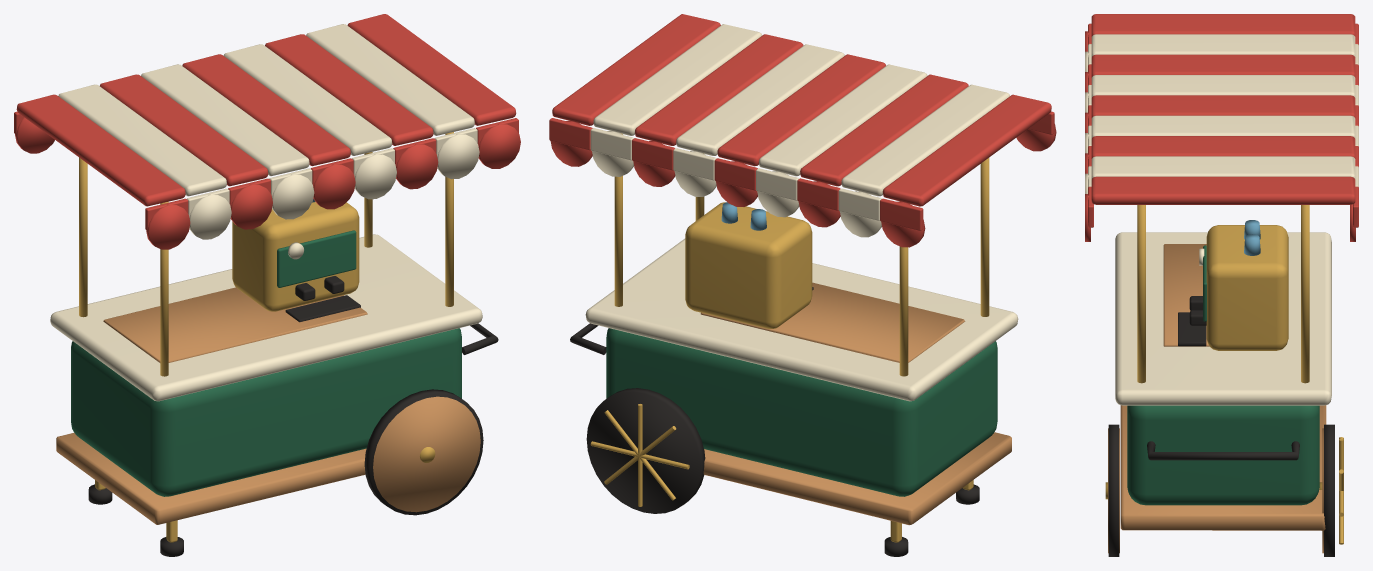
File: street_coffeecart.glb
3 views of the same model, side by side, from view 1: azimuth 30°, elevation 25°; view 2: azimuth 150°, elevation 25°; view 3: azimuth 270°, elevation 25° (orthographic).
Parts seen in each view (by area): view 1: Body, Counter, Wheel-0.43, Well, Base, Machine, Stripe0, Stripe1, Stripe4, Stripe7, Stripe2, Stripe3 (+19 smaller); view 2: Body, Counter, Machine, Wheel0.46Tyre, Base, Well, Stripe0, Stripe6, Stripe3, Stripe5, Stripe2, Stripe4 (+25 smaller); view 3: Counter, Body, Machine, Stripe8, Base, Stripe0, Stripe2, Stripe5, Stripe1, Stripe3, Stripe4, Stripe6 (+8 smaller).
Part boxes in pixels (box(x1,y1,x2,y2)): Body: box(71, 328, 461, 496); Counter: box(50, 234, 482, 401); Wheel-0.43: box(373, 396, 480, 512); Well: box(103, 287, 367, 362); Base: box(56, 433, 366, 524); Machine: box(232, 202, 359, 311); Stripe0: box(16, 94, 185, 206); Stripe1: box(58, 84, 226, 196); Stripe4: box(182, 54, 350, 166); Stripe7: box(306, 24, 474, 135); Stripe2: box(100, 74, 268, 186); Stripe3: box(141, 64, 309, 176); Body: box(606, 328, 997, 496); Counter: box(585, 238, 1018, 401); Machine: box(685, 202, 812, 328); Wheel0.46Tyre: box(586, 388, 705, 513); Base: box(703, 432, 1011, 525); Well: box(700, 282, 965, 362); Stripe0: box(882, 94, 1051, 206); Stripe6: box(635, 34, 803, 145); Stripe3: box(759, 64, 927, 176); Stripe5: box(676, 44, 844, 155); Stripe2: box(800, 74, 968, 186); Stripe4: box(717, 54, 885, 166); Counter: box(1115, 232, 1331, 405); Body: box(1127, 405, 1319, 505); Machine: box(1206, 225, 1288, 350); Stripe8: box(1091, 176, 1355, 204); Base: box(1120, 405, 1326, 530); Stripe0: box(1091, 14, 1355, 36); Stripe2: box(1091, 54, 1355, 77); Stripe5: box(1091, 115, 1355, 138); Stripe1: box(1091, 34, 1355, 56); Stripe3: box(1091, 75, 1355, 97); Stripe4: box(1091, 95, 1355, 117); Stripe6: box(1091, 136, 1355, 158).
Size of the model in its own units: 1.84 by 1.82 by 1.14.
